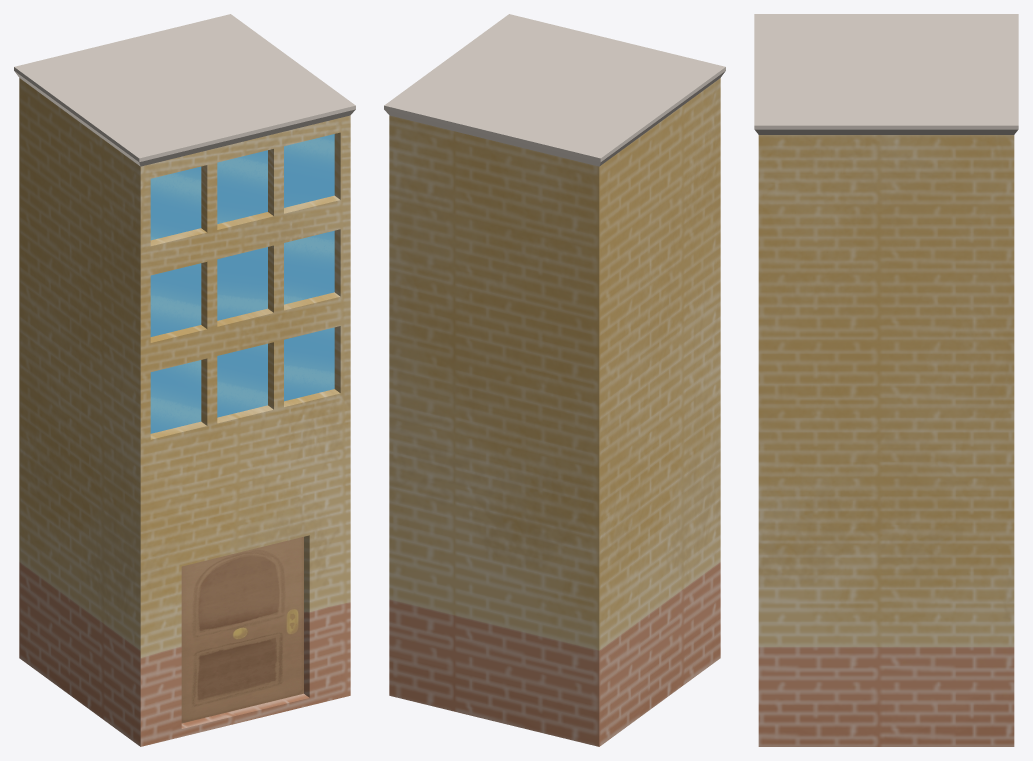
The model's file is SM_cassa_7.fbx.
The picture shows the model from 3 angles, left to right: view 1: azimuth 30°, elevation 25°; view 2: azimuth 150°, elevation 25°; view 3: azimuth 270°, elevation 25°; orthographic projection. The views are drawn at different scales.
Visible parts, largest first — view 1: Casa_0.003; view 2: Casa_0.003; view 3: Casa_0.003.
Boxes of the visible parts, x1,y1,x2,y2 form: Casa_0.003: (14, 14, 355, 746); Casa_0.003: (384, 14, 725, 746); Casa_0.003: (754, 14, 1018, 746).
Size of the model in its own units: 642 by 1672 by 642.
